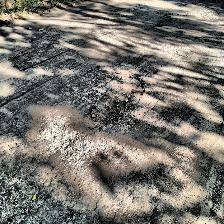pothole: (76, 74, 146, 136)
